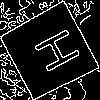H: (24, 26, 82, 79)
